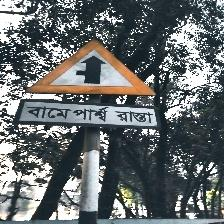Side-road-left: (17, 38, 160, 131)
